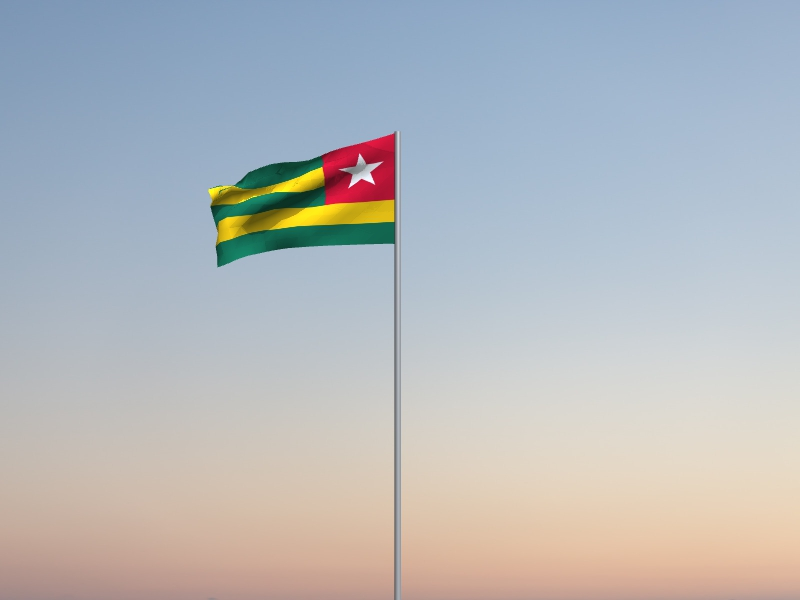tg: (208, 133, 395, 269)
